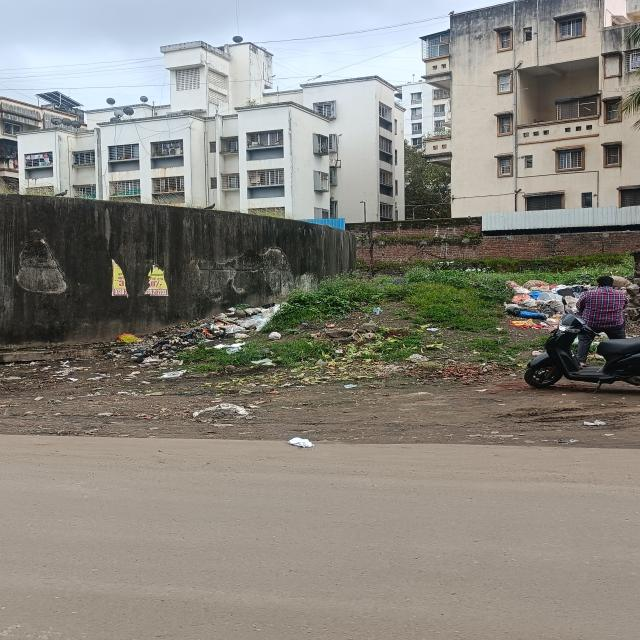garbage: (504, 275, 577, 328), (198, 304, 276, 344)
